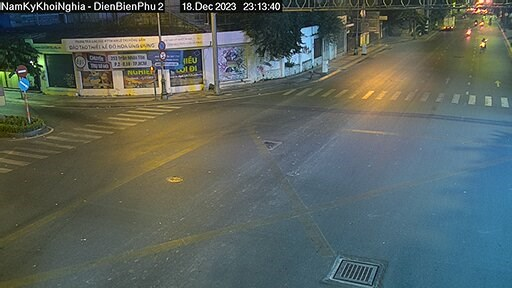motorbike: (478, 35, 493, 51)
